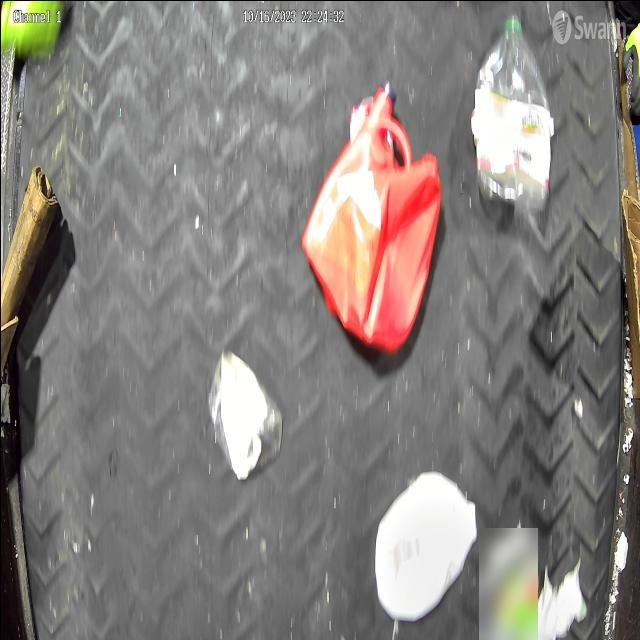milk_jug: (374, 468, 479, 620)
non_white_jug: (302, 91, 440, 352)
plastic_bottle: (472, 11, 552, 206)
